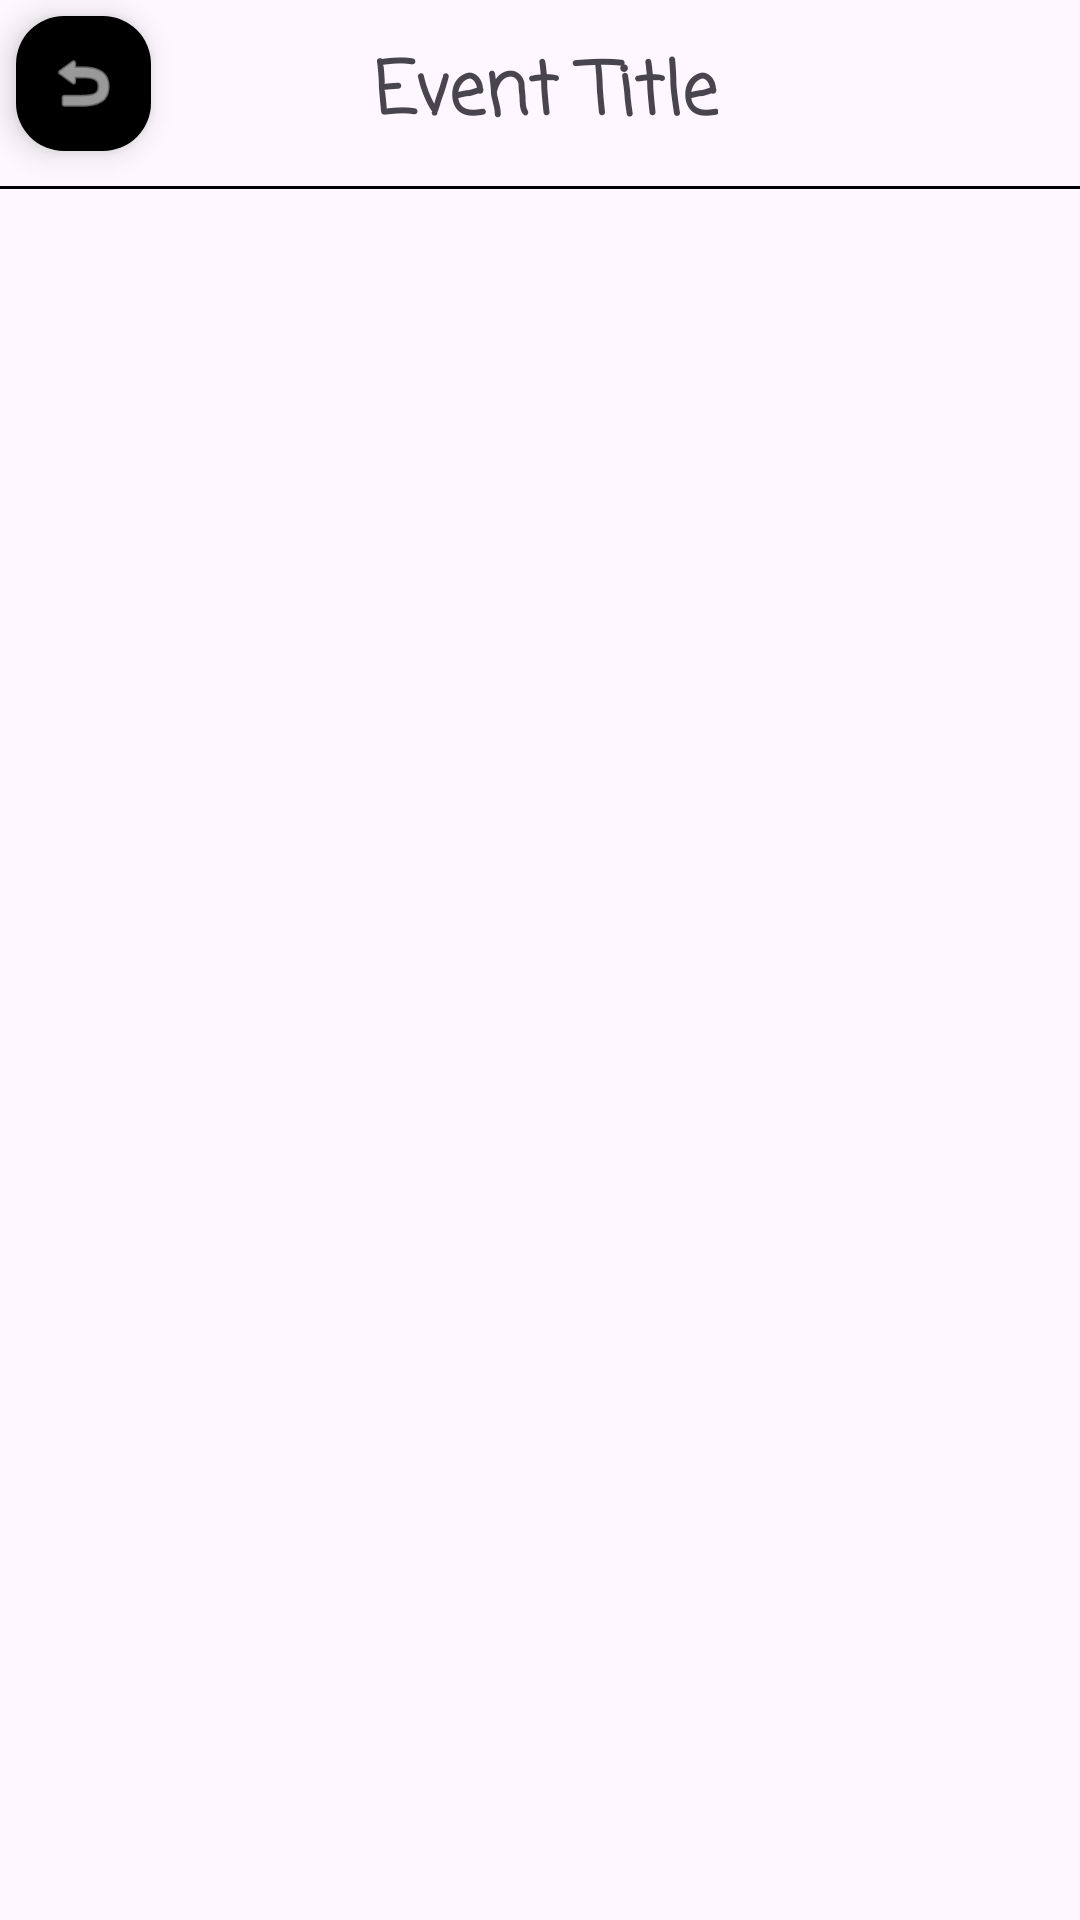

Icons on this 1080px×1920px Android screen, each with its box as (x1, y1, x2, y2):
revert: (16, 16, 151, 151)
